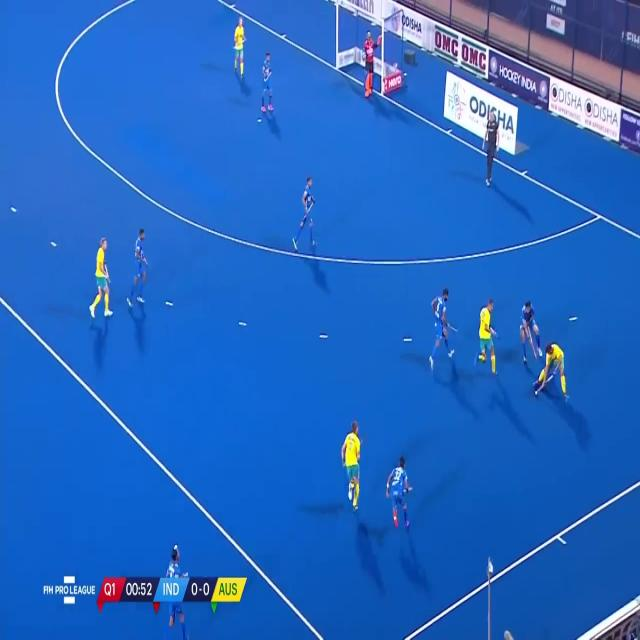ball: (533, 386, 541, 400)
